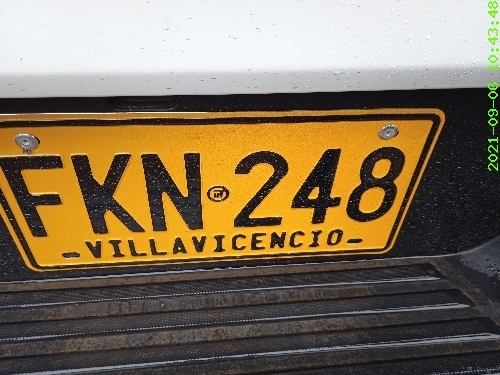number_plate: (1, 115, 444, 250)
